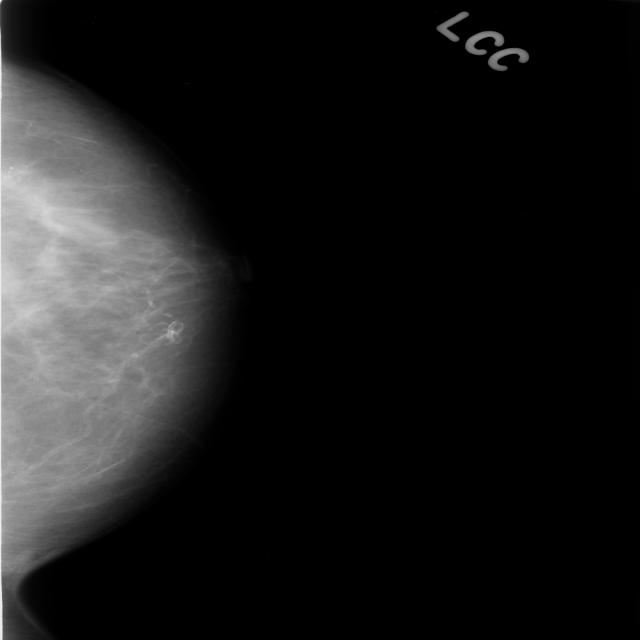normal: (0, 88, 234, 582)
